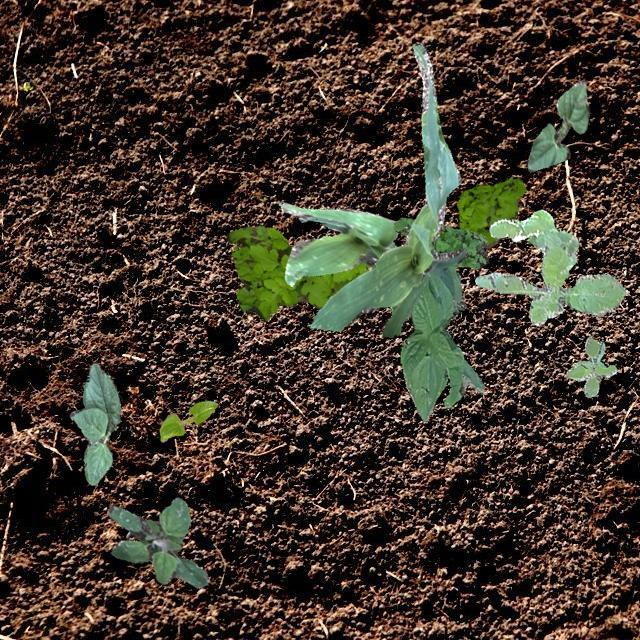crop: (308, 44, 466, 336), (388, 240, 484, 420), (278, 200, 397, 286), (68, 362, 120, 483), (526, 80, 588, 172), (158, 400, 216, 440)
weed: (226, 176, 524, 320), (474, 208, 624, 324), (106, 496, 208, 586), (392, 216, 488, 268), (564, 336, 616, 396)
